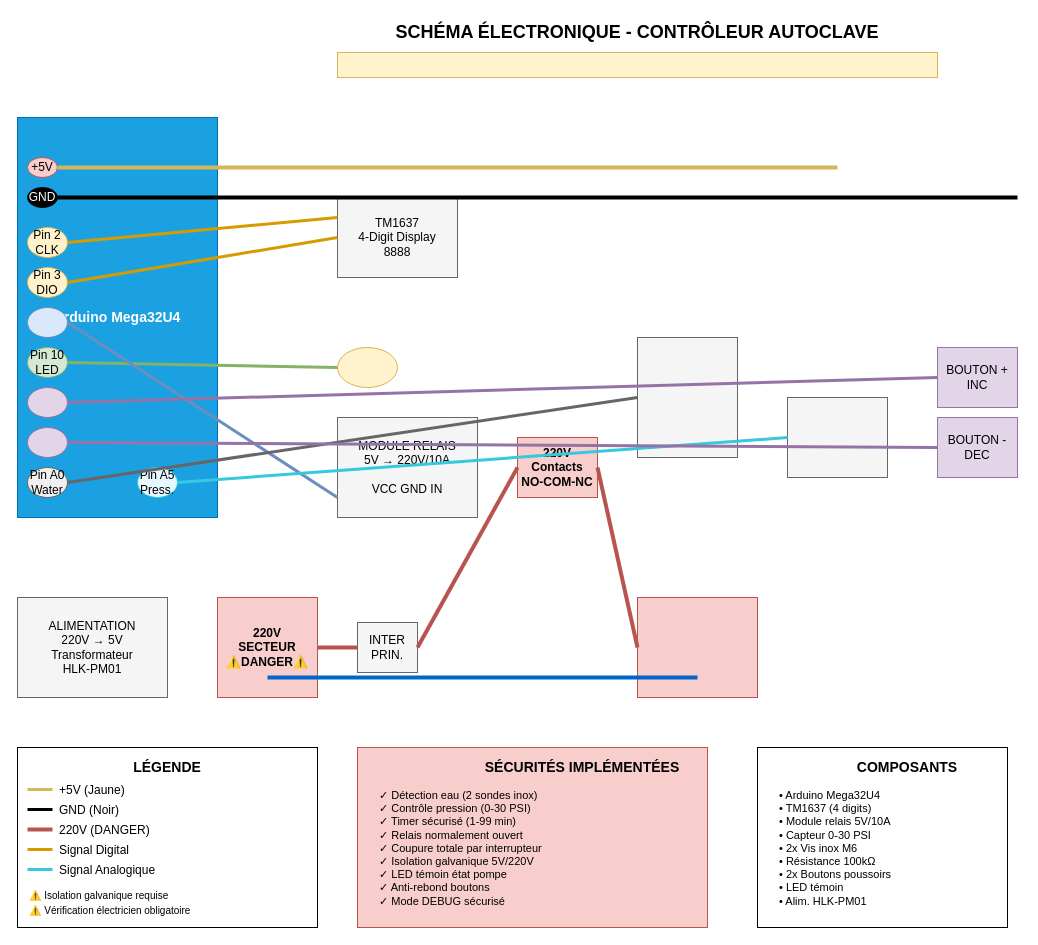
Image size: 1038x945. Some labels were removed from this diagram. Each missing label, with the centre of its shape:
CAPTEUR PRESSION 0-30 PSI +5V Signal GND: (x=837, y=437)
LED Témoin: (x=367, y=367)
Pin 11 SW+: (x=47, y=402)
Pin 12 SW-: (x=47, y=442)
Pin 9 Relay: (x=47, y=322)
RÉSISTANCE CHAUFFAGE 220V / 2000W ⚠️HAUTE TENSION⚠️: (x=697, y=647)
SONDES EAU 2x Vis Inox +5V A0 GND 100kΩ: (x=687, y=397)
⚠️ HAUTE TENSION 220V - DANGER MORTEL ⚠️: (x=637, y=65)
